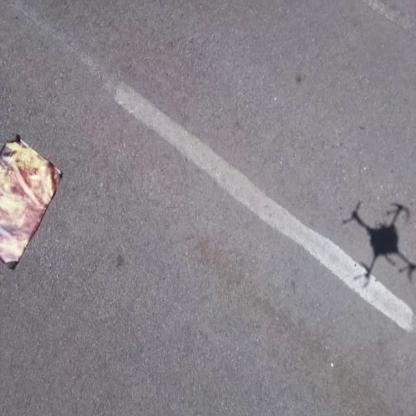fire-poster: (0, 132, 64, 270)
